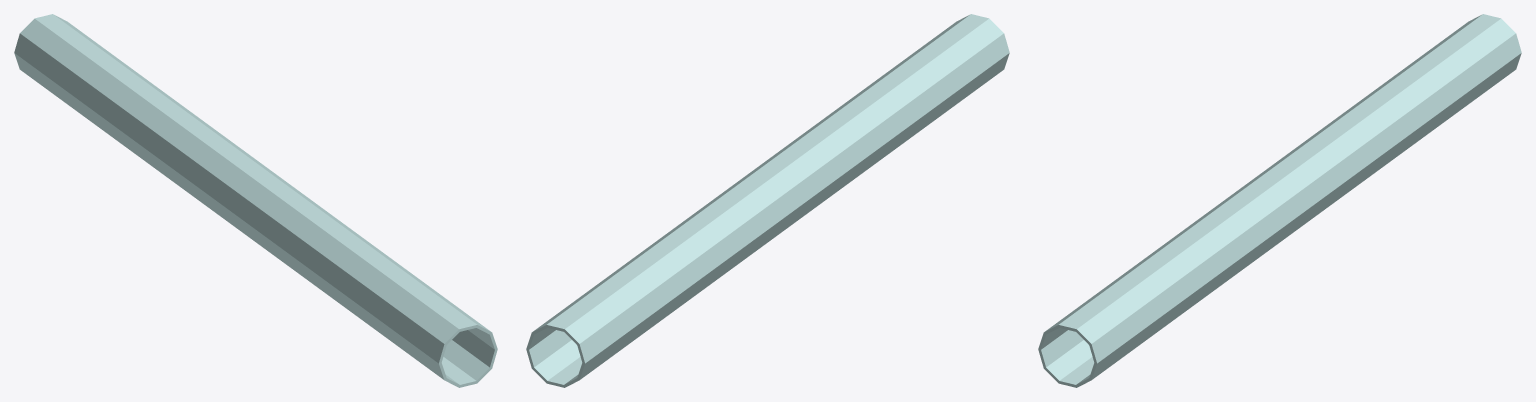
3 renders of one model, left to right at view 1: azimuth 30°, elevation 25°; view 2: azimuth 150°, elevation 25°; view 3: azimuth 330°, elevation 25°, orthographic.
Visible parts, largest first — view 1: Cylinder; view 2: Cylinder; view 3: Cylinder.
Boxes of the visible parts, x1,y1,x2,y2 form: Cylinder: [14, 14, 497, 387]; Cylinder: [526, 14, 1009, 387]; Cylinder: [1038, 14, 1521, 387].
Size of the model in its own units: 8 by 7.61 by 99.71.
